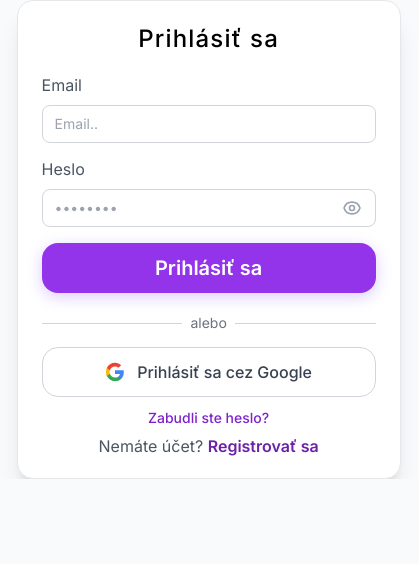
it: LoginForm › shows the rate limit and unlocks submit after HTTP 429
Type "test@example.com" into the field labelled "Email" at (209, 124), box [42, 105, 376, 143]
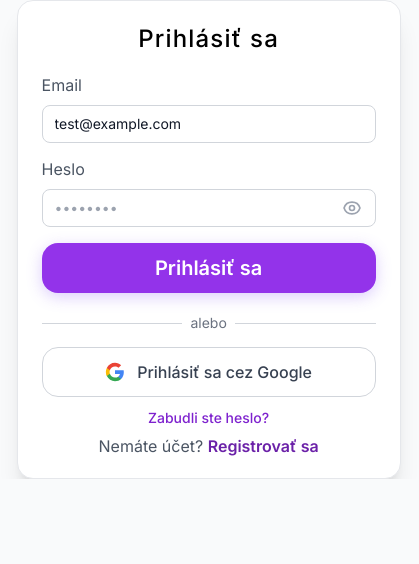
Type "password123" into the password field labelled "Heslo" at (209, 208), box [42, 189, 376, 227]
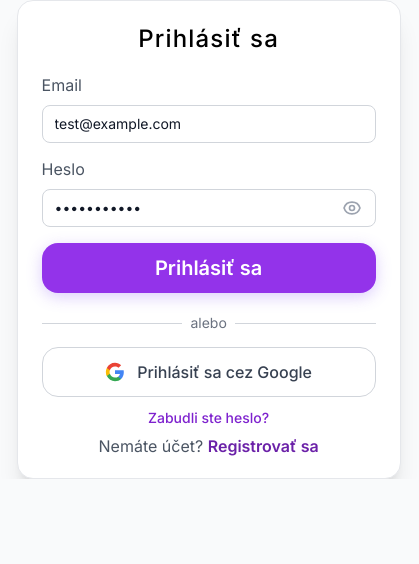
Click the button "Prihlásiť sa" at (209, 268), box [42, 243, 376, 293]
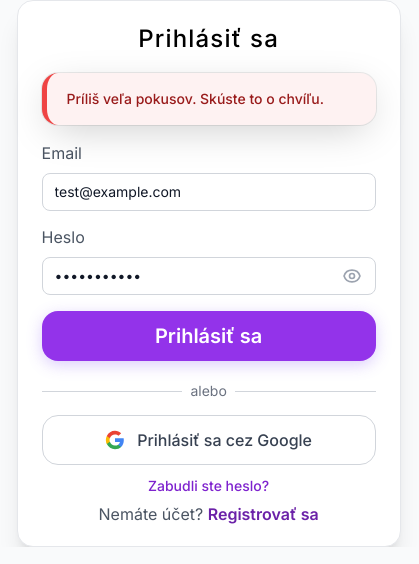
Expected: the button "Prihlásiť sa" is enabled, [42, 311, 376, 361]
Result: the message shows "Príliš veľa pokusov" at [67, 90, 324, 107]
